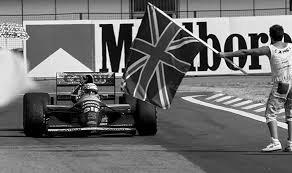FormulaOneCar: (18, 66, 163, 141)
